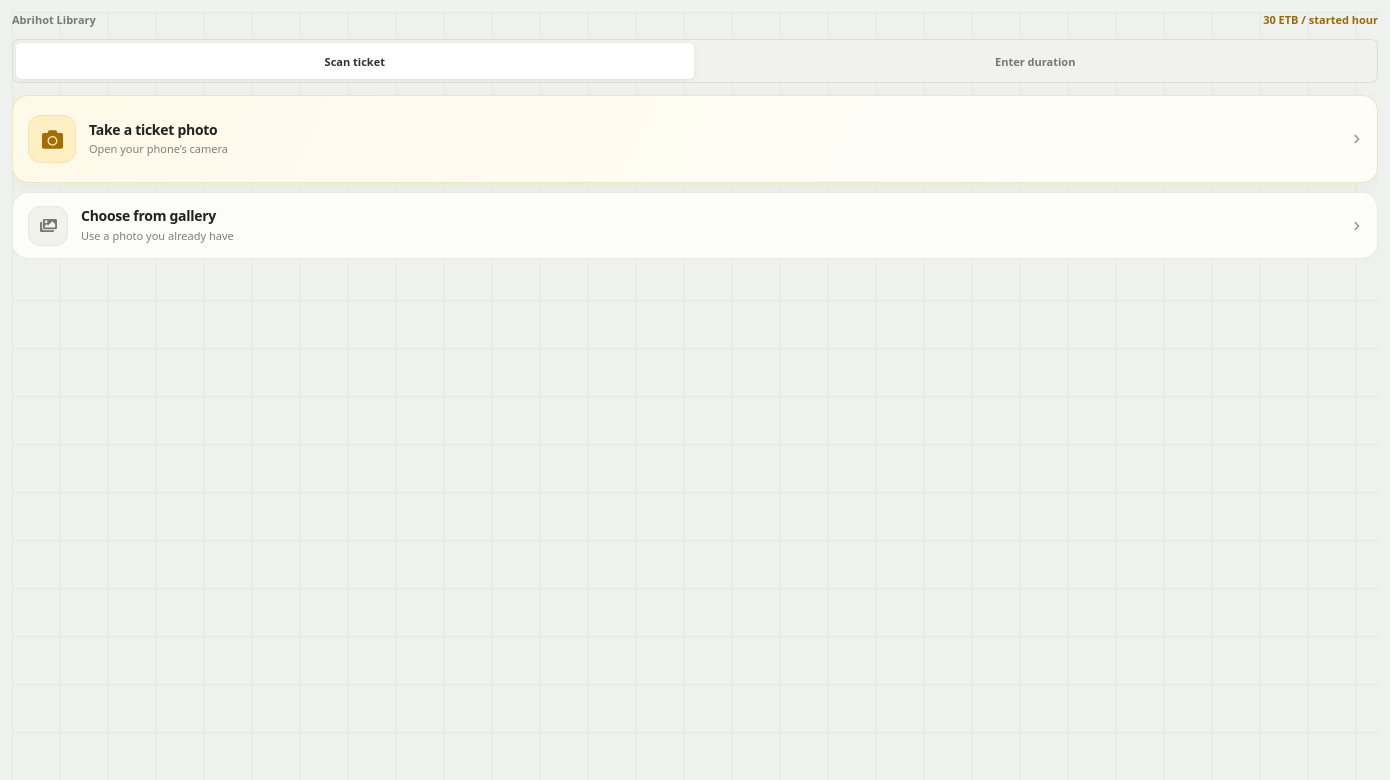
Test: Abrihot parking scanner flow › prices hours and minutes in started-hour blocks
This screenshot has width=1390, height=780.
Click the button "Enter duration" at (1035, 61), box x1=696 y1=43 x2=1374 y2=79
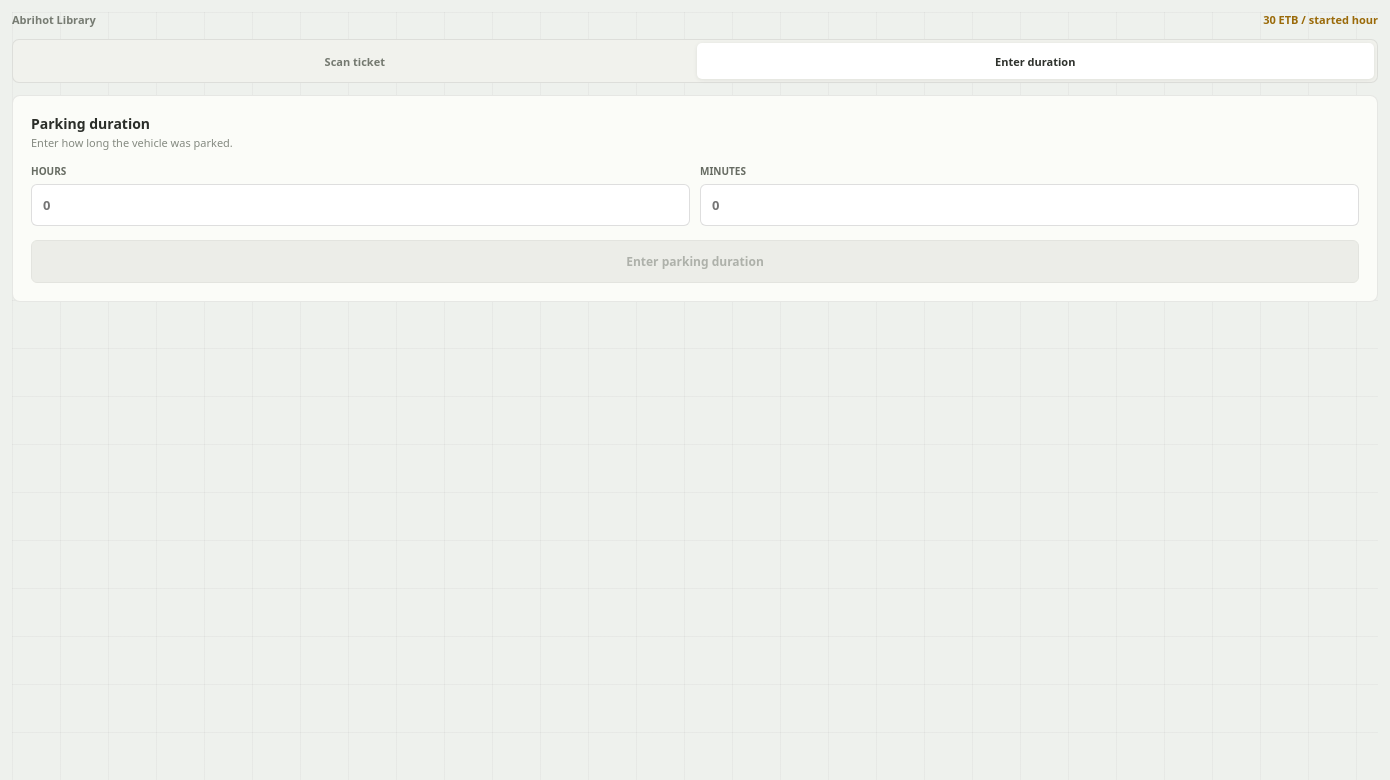
Type "6" into the number field labelled "Hours" at (360, 205), box x1=31 y1=184 x2=690 y2=226
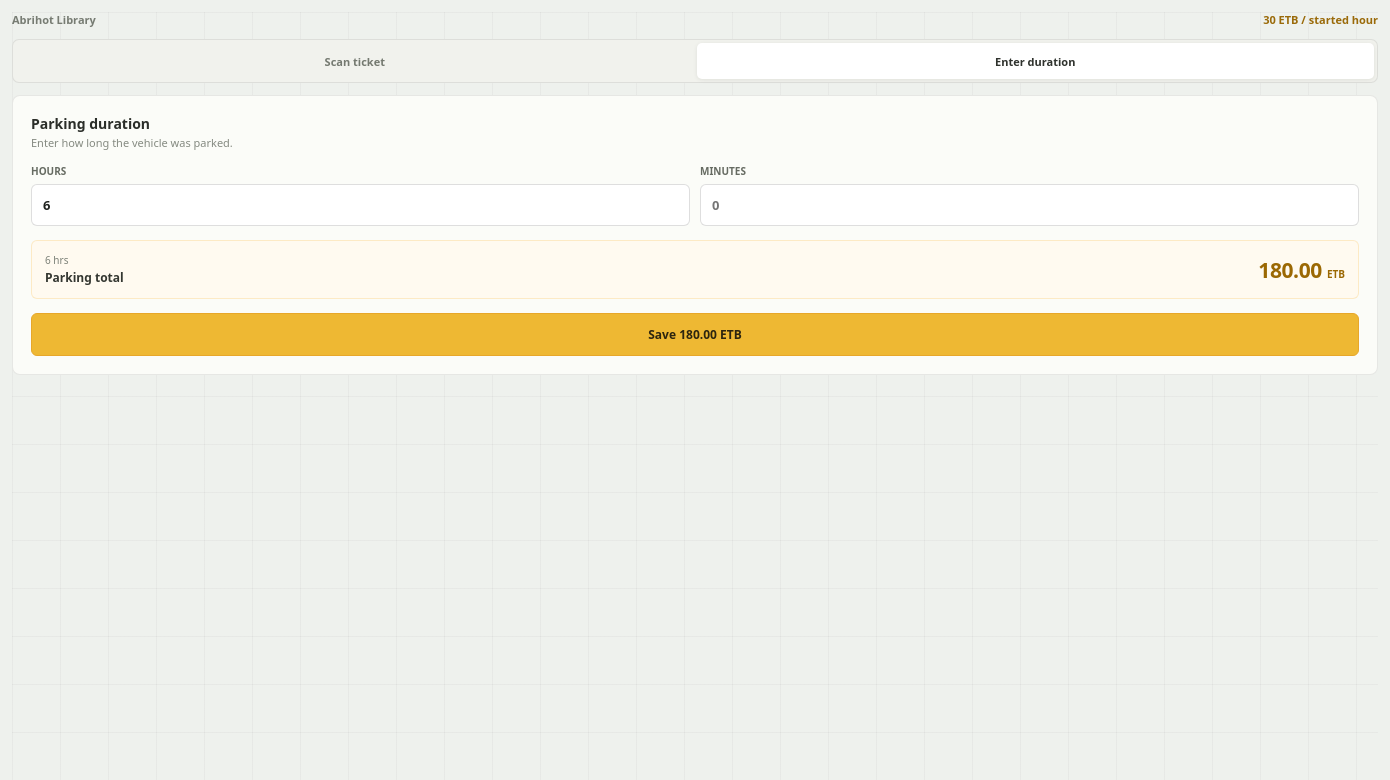
Type "5" into the number field labelled "Minutes" at (1030, 205), box x1=700 y1=184 x2=1359 y2=226
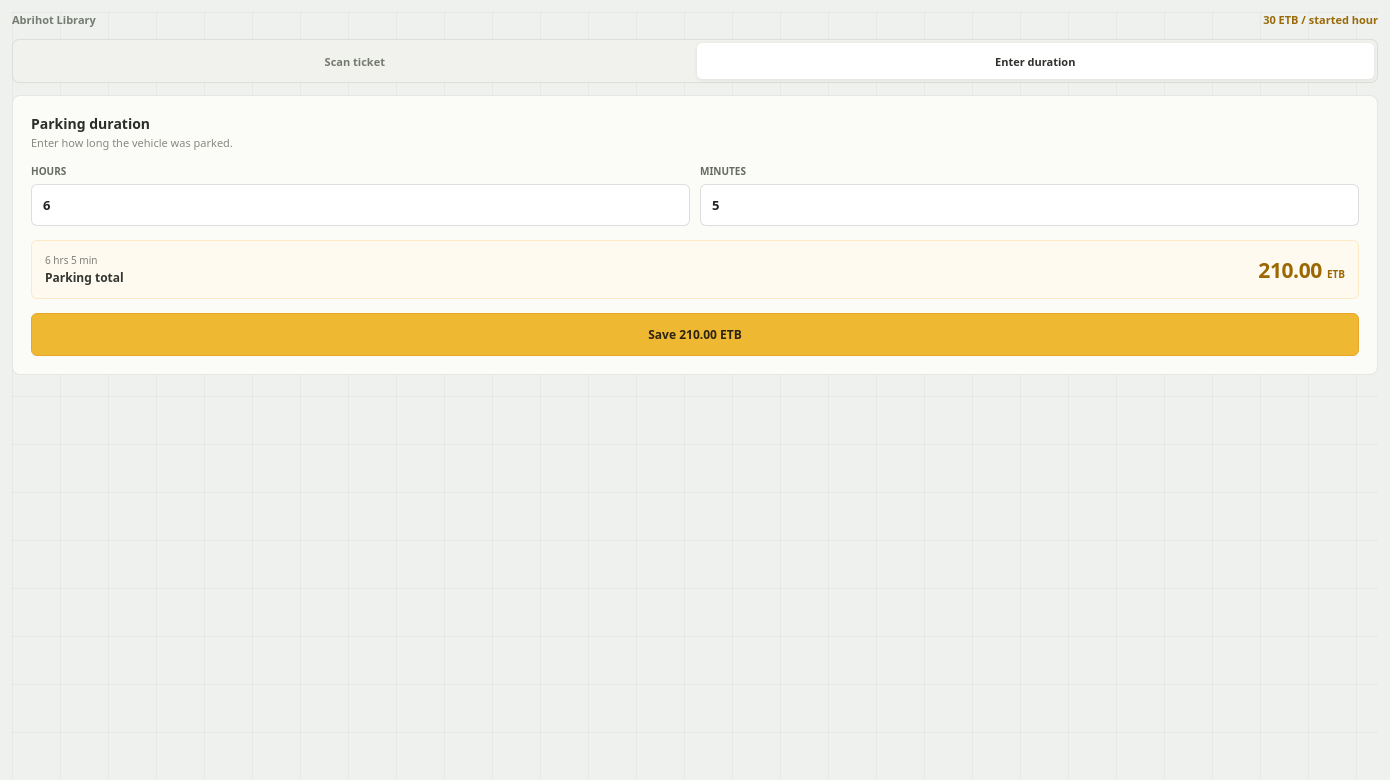
Now the button "Save 210.00 ETB" is enabled, box x1=31 y1=313 x2=1359 y2=356
Now the text "6 hrs 5 min" is shown, box x1=45 y1=253 x2=98 y2=267
